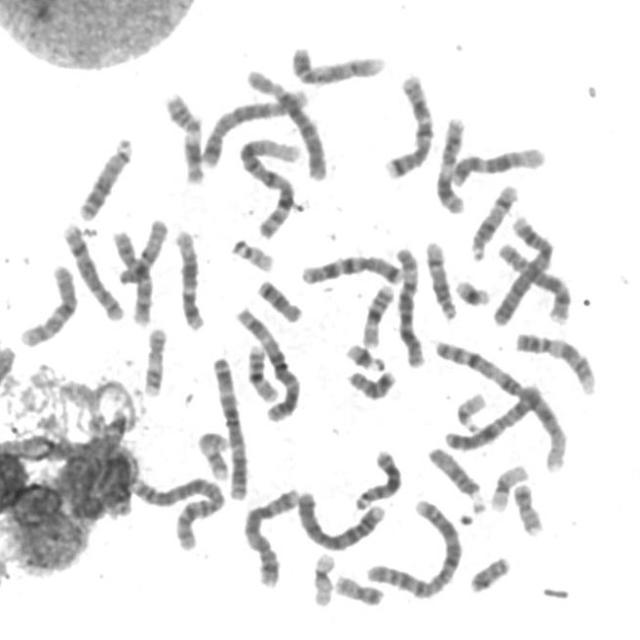A1: (428, 332, 570, 474), (234, 132, 304, 240)
A2: (362, 494, 465, 600), (126, 468, 228, 552)
A3: (232, 301, 305, 423), (208, 351, 252, 502)
B4: (488, 211, 556, 329), (292, 484, 390, 553)
B5: (196, 82, 312, 168), (238, 482, 304, 589)
C10: (14, 259, 80, 348), (107, 225, 155, 329)
C11: (160, 87, 208, 185), (432, 111, 471, 215)
C12: (447, 140, 549, 188), (170, 224, 208, 332)
C6: (242, 61, 331, 182), (392, 240, 428, 370)
C7: (380, 68, 437, 180), (297, 249, 407, 286)
C8: (57, 217, 126, 323), (495, 238, 574, 326)
C9: (511, 326, 599, 396), (285, 40, 389, 86)
D13: (74, 131, 135, 222), (351, 444, 404, 511)
D14: (467, 178, 520, 262), (421, 235, 460, 322)
D15: (424, 441, 489, 513), (114, 213, 169, 287)
E16: (358, 278, 397, 349), (242, 338, 282, 404)
E17: (138, 322, 170, 398), (193, 426, 233, 482)
E18: (252, 274, 305, 323), (343, 363, 399, 402)
F19: (486, 459, 531, 514), (307, 546, 338, 608)
F20: (330, 569, 386, 608), (509, 478, 546, 536)
G21: (341, 338, 389, 372), (451, 273, 494, 307)
G22: (227, 233, 278, 274), (452, 386, 490, 434)
X: (440, 380, 543, 452)
Y: (466, 551, 513, 595)
